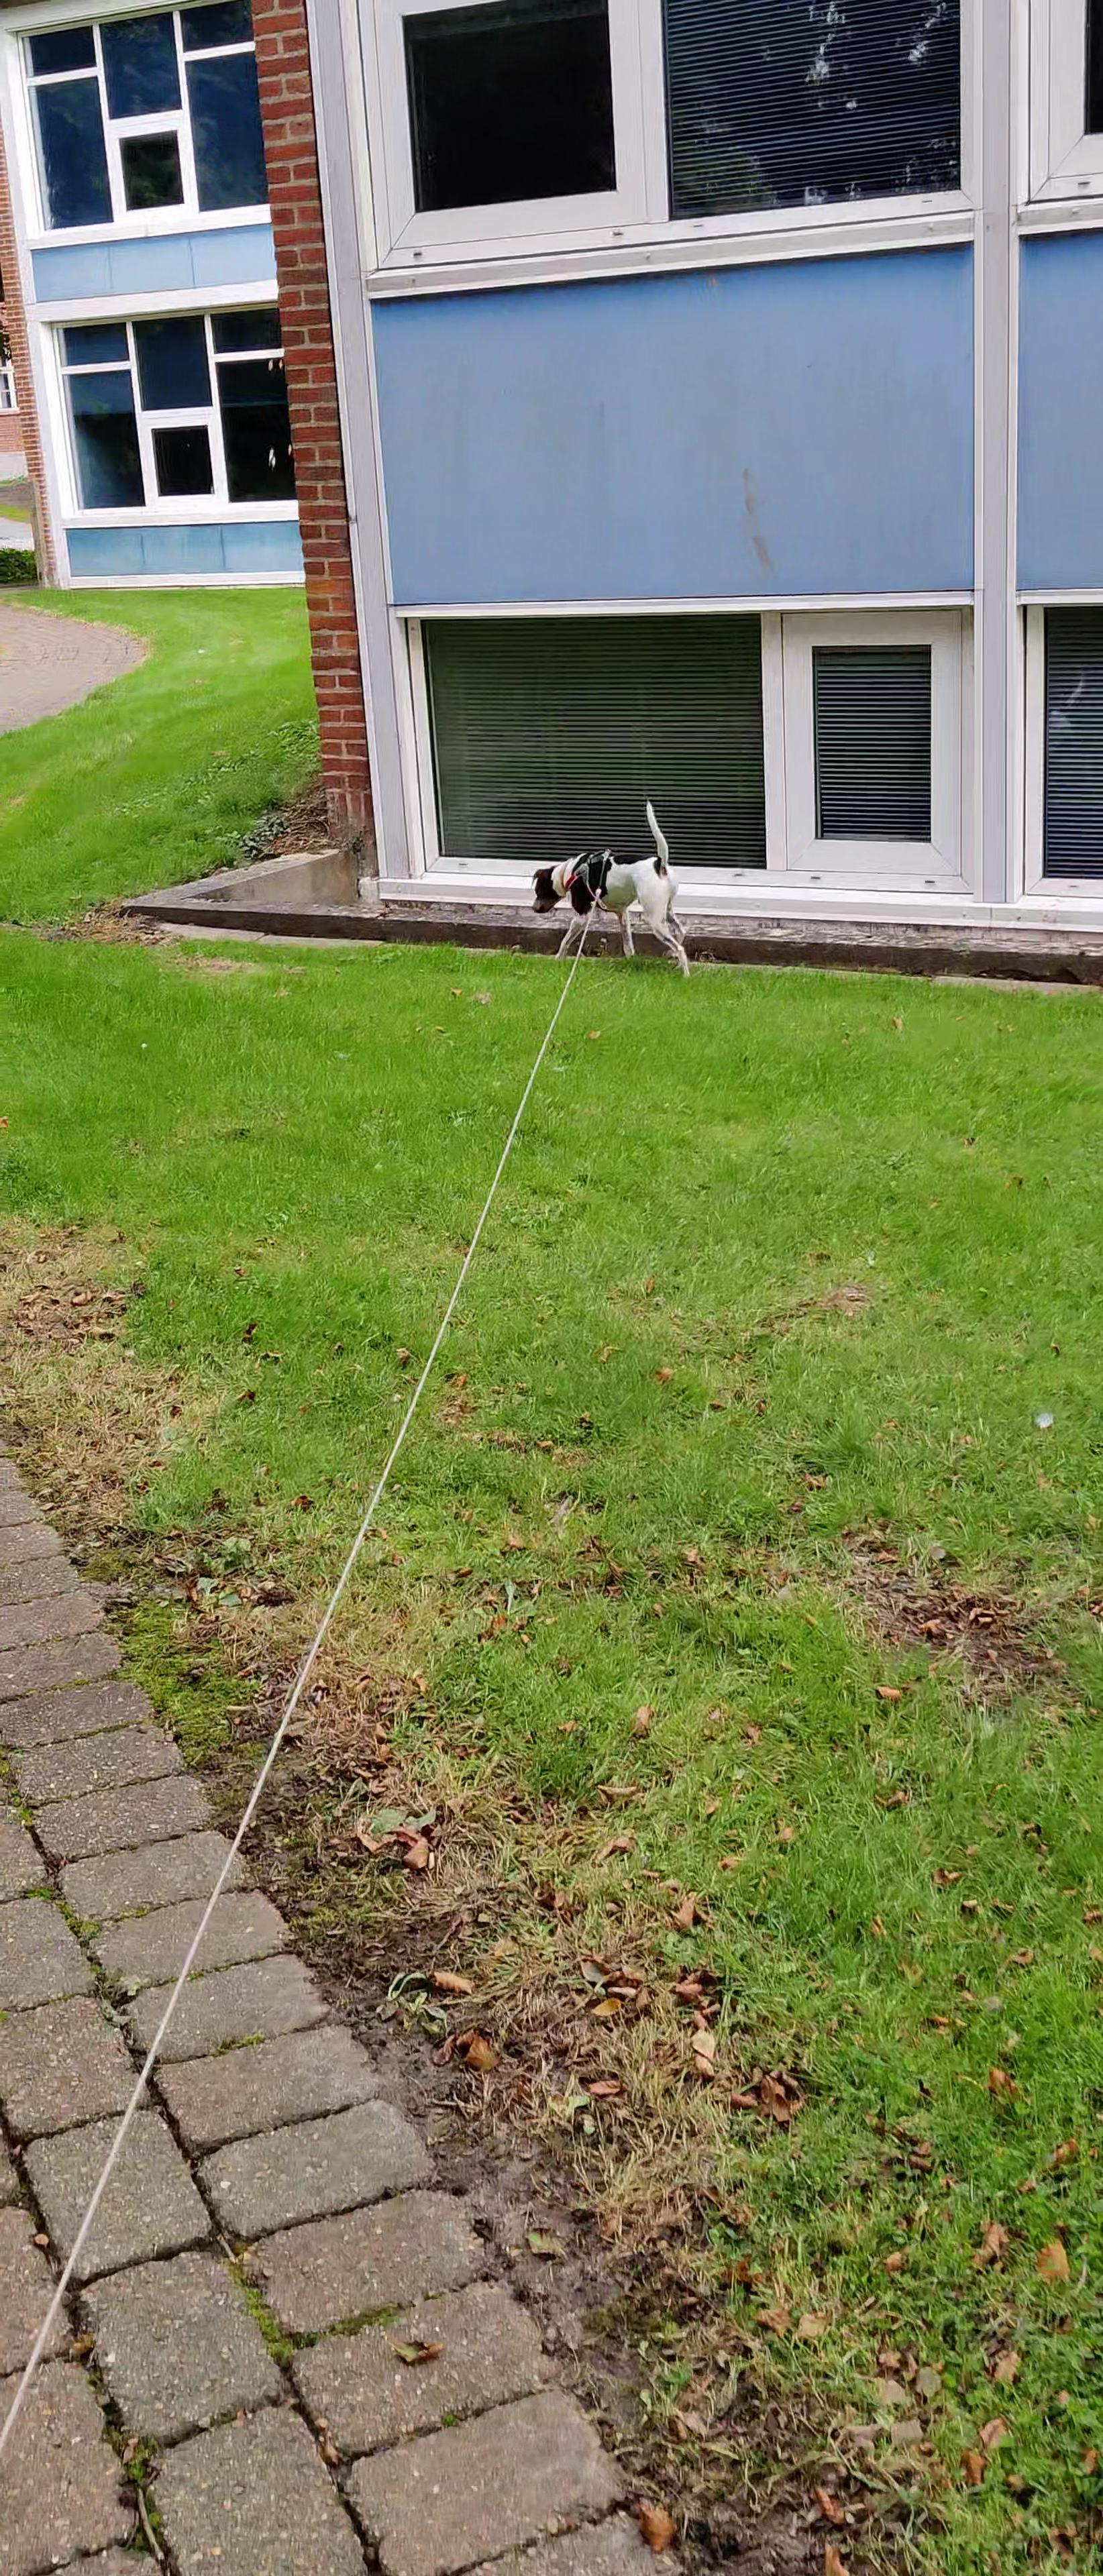Dog: (516, 795, 710, 986)
